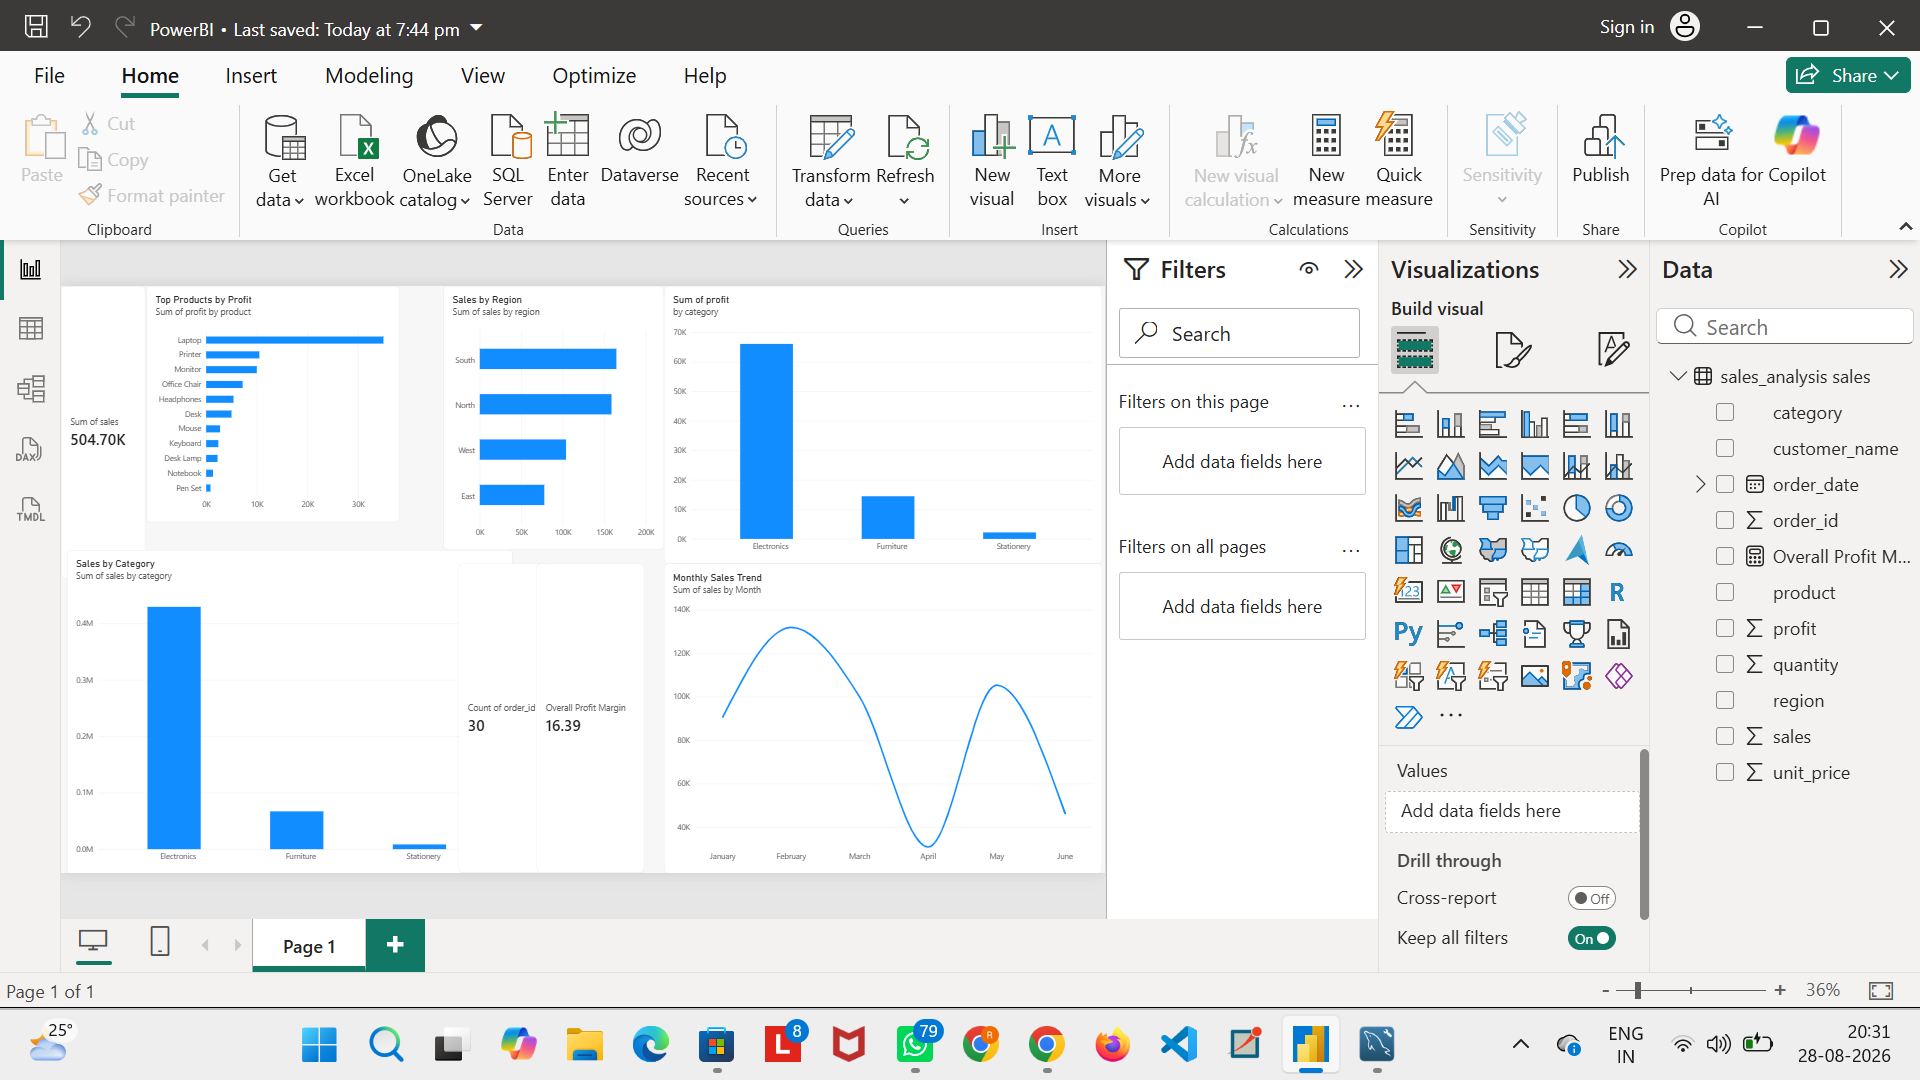

The page's visual inventory and layout, read from the dashboard file:
{"tool":"powerbi","page":{"name":"Page 1","canvas":[1920,1080],"ordinal":0},"visuals":[{"type":"cardVisual","fields":{"Data":["Sum(sales_analysis sales.sales)"]},"box":[0,0,155.9,538.6],"z":0},{"type":"clusteredColumnChart","title":"Sales by Category","fields":{"Category":["sales_analysis sales.category"],"Y":["Sum(sales_analysis sales.sales)"]},"box":[11.3,484.7,819.2,595.3],"z":1000},{"type":"clusteredColumnChart","fields":{"Category":["sales_analysis sales.category"],"Y":["Sum(sales_analysis sales.profit)"]},"box":[1108.4,0,805,510.2],"z":2000},{"type":"cardVisual","fields":{"Data":["CountNonNull(sales_analysis sales.order_id)"]},"box":[731.3,510.2,175.7,569.8],"z":3000},{"type":"cardVisual","fields":{"Data":["sales_analysis sales.Overall Profit Margin"]},"box":[873.1,510.2,198.4,569.8],"z":4000},{"type":"lineChart","title":"Monthly Sales Trend","fields":{"Category":["sales_analysis sales.order_date.Variation.Date Hierarchy.Month"],"Y":["Sum(sales_analysis sales.sales)"]},"box":[1108.4,510.2,805,569.8],"z":5000},{"type":"clusteredBarChart","title":"Sales by Region","fields":{"Category":["sales_analysis sales.region"],"Y":["Sum(sales_analysis sales.sales)"]},"box":[703,0,405.4,484.7],"z":6000},{"type":"clusteredBarChart","title":"Top Products by Profit","fields":{"Category":["sales_analysis sales.product"],"Y":["Sum(sales_analysis sales.profit)"]},"box":[155.9,0,464.9,433.7],"z":6001}]}

Visuals, with their boxes on the page's 1920x1080 design canvas (x1, y1, x2, y2). These are canvas units, not pixel positions in the 1920x1080 screenshot, which may show the page scaled, cropped or inside an application window:
cardVisual - Sum(sales_analysis sales.sales): 0, 0, 156, 539
"Sales by Category" clusteredColumnChart: 11, 485, 830, 1080
clusteredColumnChart - sales_analysis sales.category x Sum(sales_analysis sales.profit): 1108, 0, 1913, 510
cardVisual - CountNonNull(sales_analysis sales.order_id): 731, 510, 907, 1080
cardVisual - sales_analysis sales.Overall Profit Margin: 873, 510, 1072, 1080
"Monthly Sales Trend" lineChart: 1108, 510, 1913, 1080
"Sales by Region" clusteredBarChart: 703, 0, 1108, 485
"Top Products by Profit" clusteredBarChart: 156, 0, 621, 434
